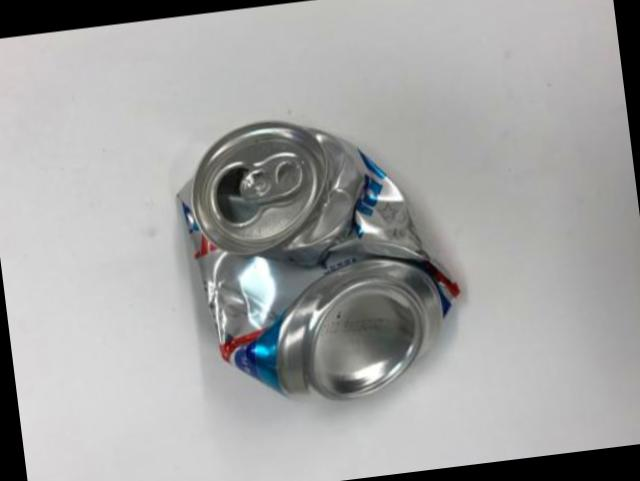metal: (176, 120, 456, 396)
